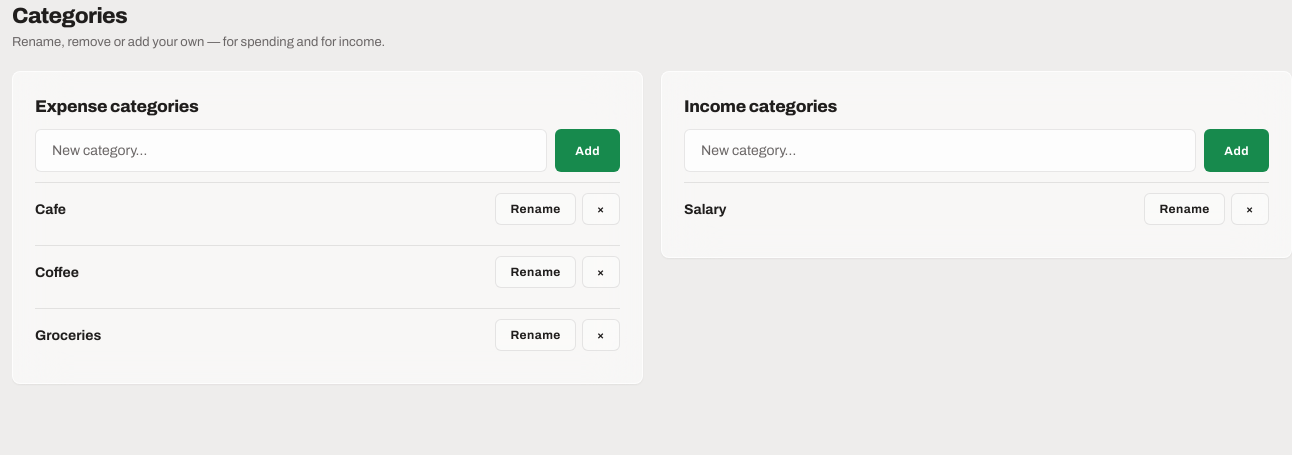
it: Categories page › shows a duplicate-name error
The image size is (1292, 455).
Type "coffee" into the field named "New expense category".
click(291, 150); type("coffee")  # box [35,129,547,172]
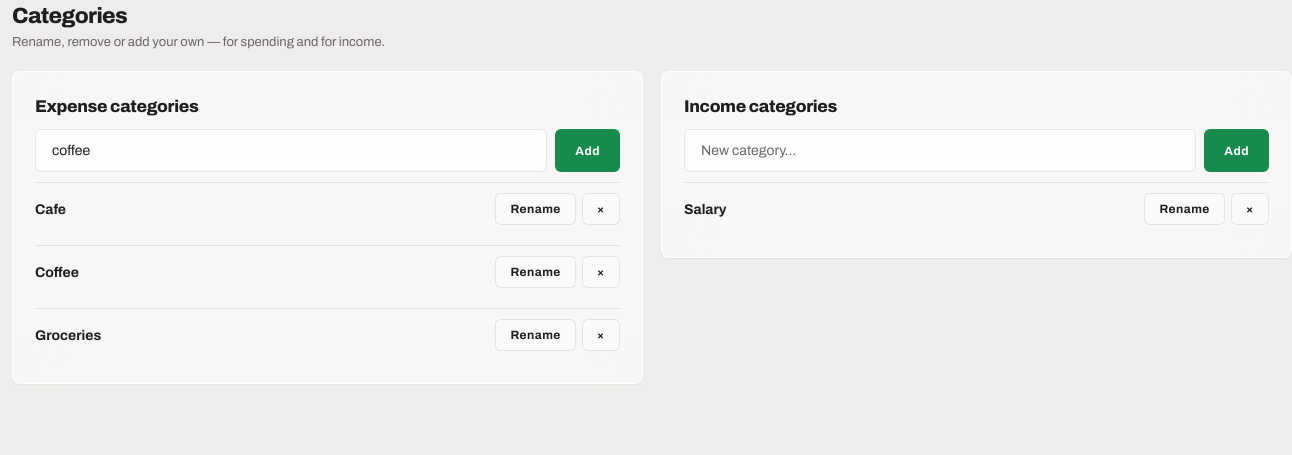
Click the 1st button "Add".
click(588, 150)  # box [555,129,620,172]
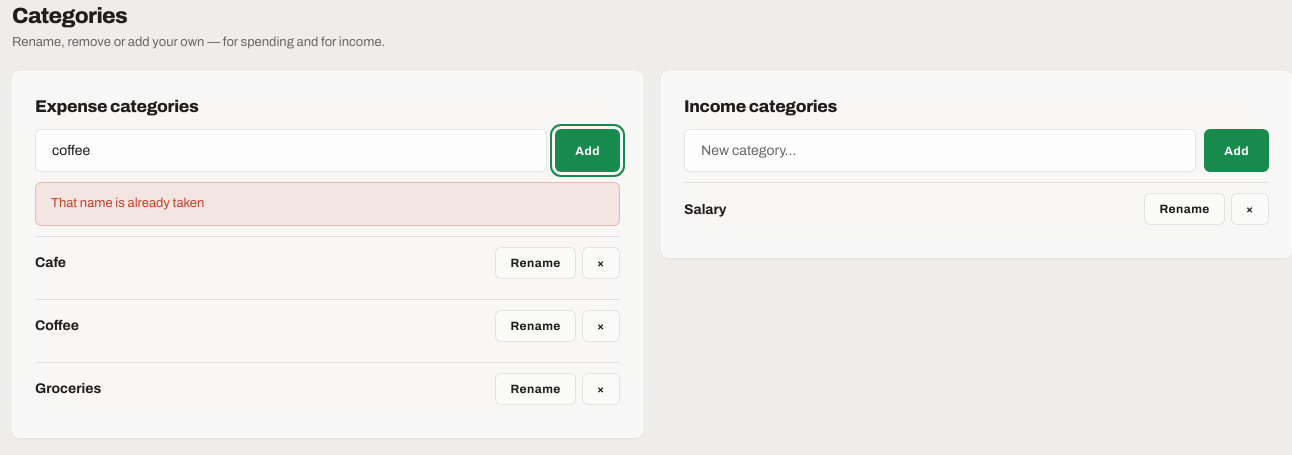
expect the text "That name is already taken" is shown: met, box [35,182,620,226]
